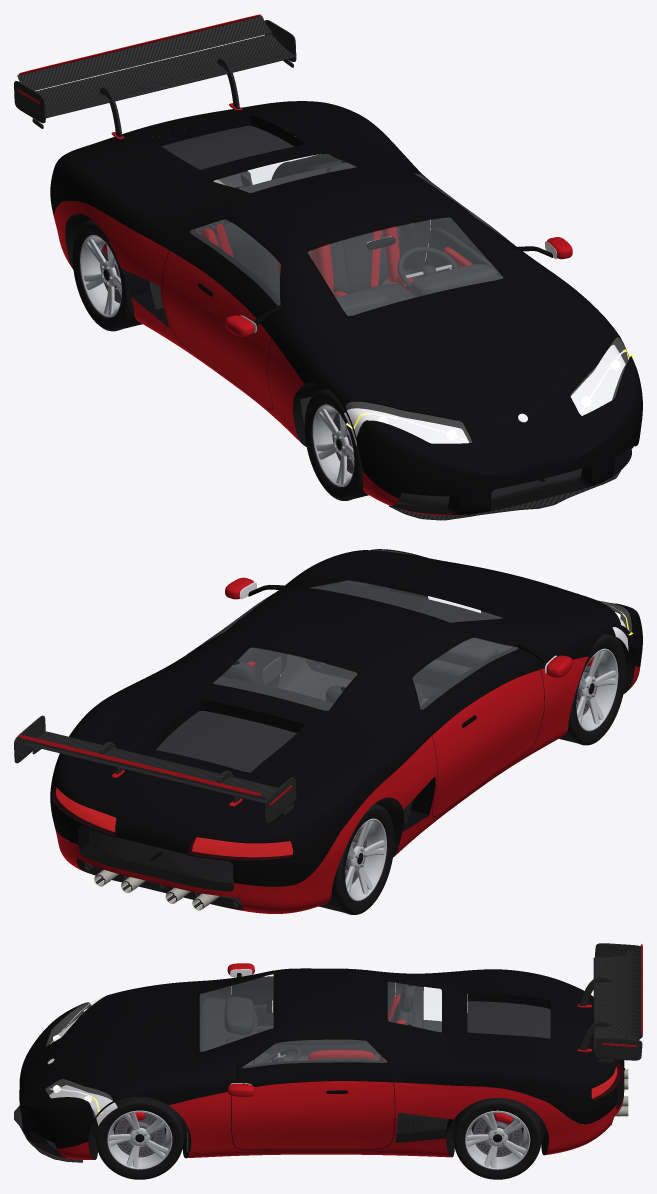
The model's file is vesper.glb.
The picture shows the model from 3 angles, top to bottom: view 1: azimuth 30°, elevation 25°; view 2: azimuth 150°, elevation 25°; view 3: azimuth 270°, elevation 25°; orthographic projection. The views are drawn at different scales.
Parts seen in each view (by area): view 1: Body_Black, Glass_Windshield, DoorPaint_Red_R, Body_Red, Wing_Main, Wing_Flap, DoorPaint_Black_R, EngineVent_floor, Glass_SideR, Headlamp_R_lens, Glass_RearGlass, Headlamp_L_lens (+30 smaller); view 2: Body_Black, Body_Red, DoorPaint_Red_R, EngineVent_floor, Glass_RearGlass, DoorPaint_Black_R, Wing_Main, RearGrille_floor, Glass_SideR, Cabin_Cap_0, Glass_Windshield, RearGrille_wall (+33 smaller); view 3: Body_Black, DoorPaint_Red_L, Body_Red, Glass_Windshield, DoorPaint_Black_L, EngineVent_floor, Wing_Main, Glass_SideL, Glass_RearGlass, Tyre_Sidewall_O_RL, Tyre_Sidewall_O_FL, Door_Inner_R_floor (+34 smaller).
Boxes of the visible parts, bbox=[...] form: Body_Black: bbox=[50, 101, 642, 514]; Glass_Windshield: bbox=[308, 218, 502, 315]; DoorPaint_Red_R: bbox=[162, 250, 273, 410]; Body_Red: bbox=[54, 201, 463, 515]; Wing_Main: bbox=[35, 34, 295, 118]; Wing_Flap: bbox=[17, 16, 272, 90]; DoorPaint_Black_R: bbox=[168, 208, 305, 337]; EngineVent_floor: bbox=[161, 125, 293, 169]; Glass_SideR: bbox=[190, 219, 280, 305]; Headlamp_R_lens: bbox=[345, 402, 471, 443]; Glass_RearGlass: bbox=[214, 154, 354, 192]; Headlamp_L_lens: bbox=[571, 337, 629, 415]; Body_Black: bbox=[50, 550, 642, 886]; Body_Red: bbox=[55, 656, 640, 913]; DoorPaint_Red_R: bbox=[431, 670, 544, 817]; EngineVent_floor: bbox=[156, 711, 296, 772]; Glass_RearGlass: bbox=[214, 648, 356, 710]; DoorPaint_Black_R: bbox=[392, 630, 539, 736]; Wing_Main: bbox=[23, 731, 277, 802]; RearGrille_floor: bbox=[88, 828, 237, 883]; Glass_SideR: bbox=[413, 638, 517, 709]; Cabin_Cap_0: bbox=[305, 582, 498, 698]; Glass_Windshield: bbox=[312, 581, 501, 622]; RearGrille_wall: bbox=[78, 825, 233, 891]; Body_Black: bbox=[19, 968, 624, 1148]; DoorPaint_Red_L: bbox=[231, 1081, 395, 1149]; Body_Red: bbox=[39, 1082, 623, 1159]; Glass_Windshield: bbox=[200, 975, 273, 1051]; DoorPaint_Black_L: bbox=[231, 1039, 395, 1086]; EngineVent_floor: bbox=[467, 1001, 550, 1038]; Wing_Main: bbox=[593, 954, 626, 1052]; Glass_SideL: bbox=[242, 1040, 386, 1067]; Glass_RearGlass: bbox=[388, 982, 441, 1031]; Tyre_Sidewall_O_RL: bbox=[456, 1103, 538, 1178]; Tyre_Sidewall_O_FL: bbox=[98, 1103, 180, 1178]; Door_Inner_R_floor: bbox=[231, 978, 395, 1055].
Bounding box in the file's own units: 2.27 × 1.18 × 4.75.
Materials: 41 (3 with a texture image).
